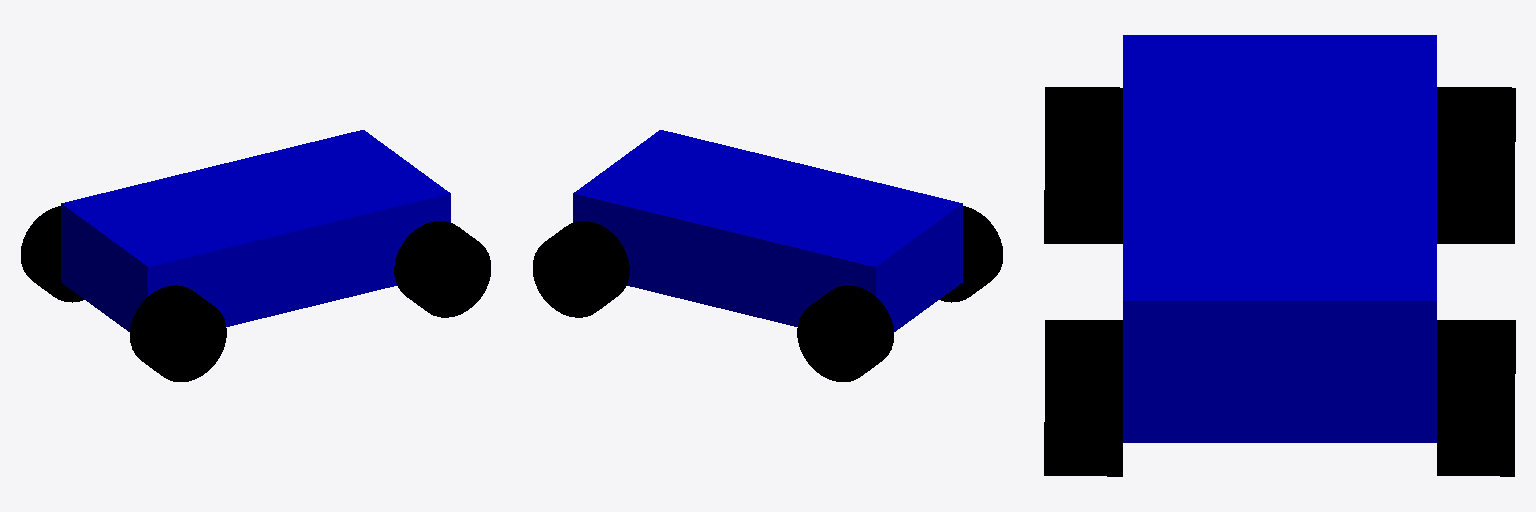
The robot description file, URDF, robot "UGV":
<?xml version="1.0"?>
<robot name="UGV">
  <link name="base_link">
    <visual>
      <geometry>
        <box size="0.8 0.4 0.2"/>
      </geometry>
      <material name="blue">
        <color rgba="0.0 0.0 0.8 1.0"/>
      </material>
    </visual>
  </link>

  <link name="link_2">
    <visual>
      <geometry>
        <cylinder radius="0.1" length="0.1"/>
      </geometry>
      <material name="black">
        <color rgba="0.0 0.0 0.0 1.0"/>
      </material>
    </visual>
  </link>

  <link name="link_3">
    <visual>
      <geometry>
        <cylinder radius="0.1" length="0.1"/>
      </geometry>
      <material name="black">
        <color rgba="0.0 0.0 0.0 1.0"/>
      </material>
    </visual>
  </link>

  <link name="link_4">
    <visual>
      <geometry>
        <cylinder radius="0.1" length="0.1"/>
      </geometry>
      <material name="black">
        <color rgba="0.0 0.0 0.0 1.0"/>
      </material>
    </visual>
  </link>

  <link name="link_5">
    <visual>
      <geometry>
        <cylinder radius="0.1" length="0.1"/>
      </geometry>
      <material name="black">
        <color rgba="0.0 0.0 0.0 1.0"/>
      </material>
    </visual>
  </link>

  <joint name="joint_1ame" type="continuous">
    <origin xyz="0.35 0.25 -0.06" rpy="1.57 0.0 0.0"/>
    <parent link="base_link"/>
    <child link="link_2"/>
    <axis xyz="0.0 1.0 0.0"/>
  </joint>

   <joint name="joint_2ame" type="continuous">
    <origin xyz="0.35 -0.25 -0.06"  rpy="1.57 0.0 0.0"/>
    <parent link="base_link"/>
    <child link="link_3"/>
    <axis xyz="0.0 1.0 0.0"/>
  </joint>

  <joint name="joint_3ame" type="continuous">
    <origin xyz="-0.35 -0.25 -0.06"  rpy="1.57 0.0 0.0"/>
    <parent link="base_link"/>
    <child link="link_4"/>
    <axis xyz="0.0 1.0 0.0"/>
 </joint>
 
<joint name="joint_4ame" type="continuous">
    <origin xyz="-0.35 0.25 -0.06"  rpy="1.57 0.0 0.0"/>
    <parent link="base_link"/>
    <child link="link_5"/>
    <axis xyz="0.0 1.0 0.0"/>
 </joint>
</robot>

--- What the picture shows (computed from the rendered views, not written in the file) ---
Views: 3 orthographic renders of the robot side by side, from view 1: azimuth 30°, elevation 25°; view 2: azimuth 150°, elevation 25°; view 3: azimuth 270°, elevation 25°.
Robot: UGV — 5 links, 4 joints (4 continuous); root link base_link; default pose: every joint at zero.
Visible links, largest first — view 1: base_link, link_3, link_4, link_5; view 2: base_link, link_2, link_5, link_4; view 3: base_link, link_4, link_5, link_3, link_2.
Link boxes in pixels (left/top/right/bottom): base_link: left=61, top=130, right=450, bottom=331; link_3: left=394, top=221, right=490, bottom=317; link_4: left=130, top=285, right=226, bottom=381; link_5: left=21, top=206, right=84, bottom=302; base_link: left=573, top=130, right=962, bottom=331; link_2: left=533, top=221, right=629, bottom=317; link_5: left=797, top=285, right=893, bottom=381; link_4: left=939, top=206, right=1002, bottom=302; base_link: left=1123, top=35, right=1436, bottom=442; link_4: left=1044, top=87, right=1122, bottom=243; link_5: left=1437, top=87, right=1515, bottom=243; link_3: left=1044, top=320, right=1122, bottom=476; link_2: left=1437, top=320, right=1515, bottom=476.
Bounding box of the posed robot: 0.9 × 0.6002 × 0.26 m (x, y, z).
Geometry: primitives only (box / cylinder / sphere), no mesh files.